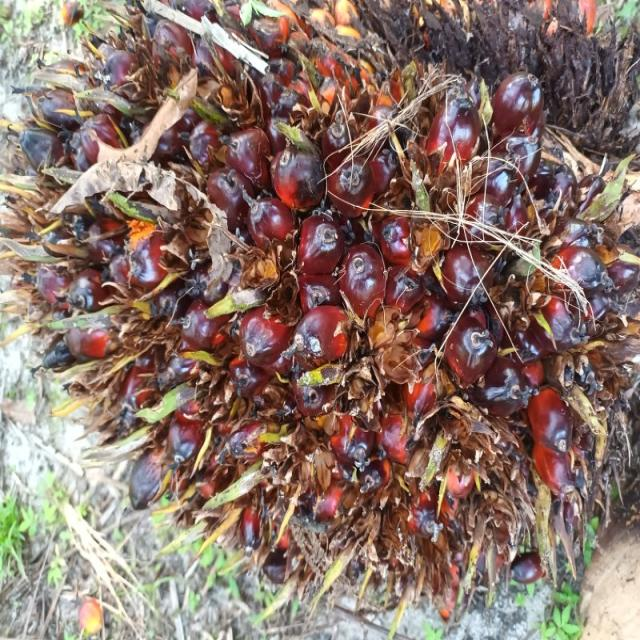fraksi 1: (16, 6, 480, 640)
